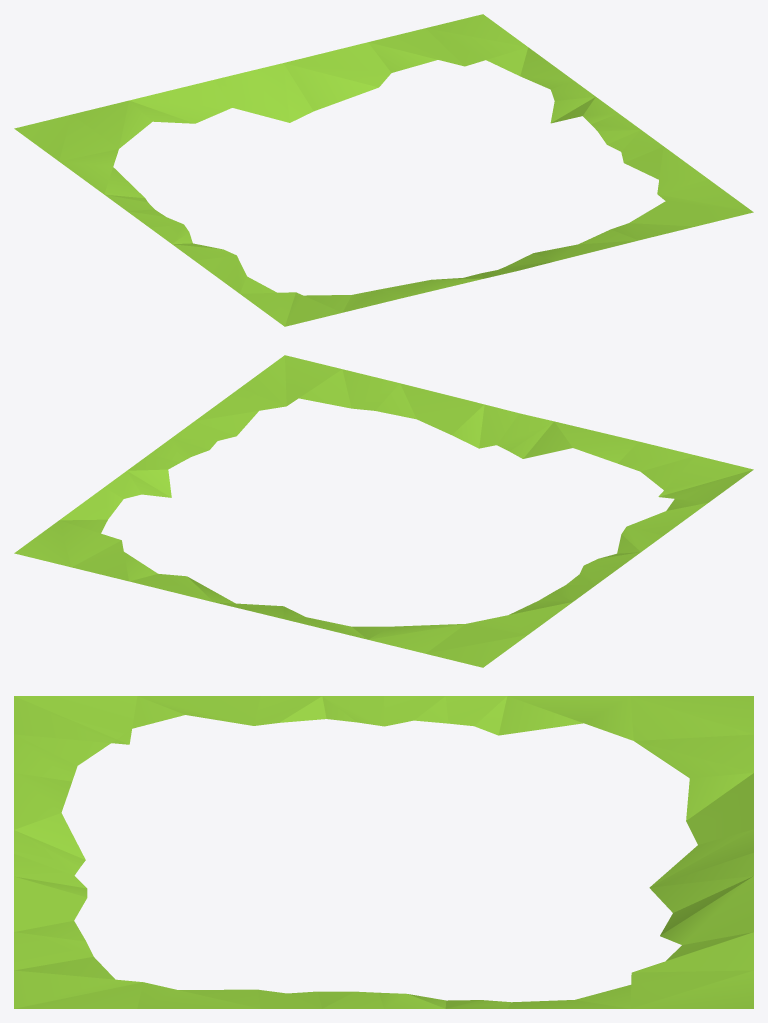
Rendered from Lago_con_arena 2.fbx.
3 renders of one model, top to bottom at view 1: azimuth 30°, elevation 25°; view 2: azimuth 150°, elevation 25°; view 3: azimuth 270°, elevation 25°, orthographic. The views are drawn at different scales.
Visible parts, largest first — view 1: ground_06; view 2: ground_06; view 3: ground_06.
Part boxes in pixels (x1,y1,x2,y2): ground_06: (14,14,753,326); ground_06: (14,355,753,667); ground_06: (14,696,753,1008).
Size of the model in its own units: 1600 by 88.14 by 1600.
